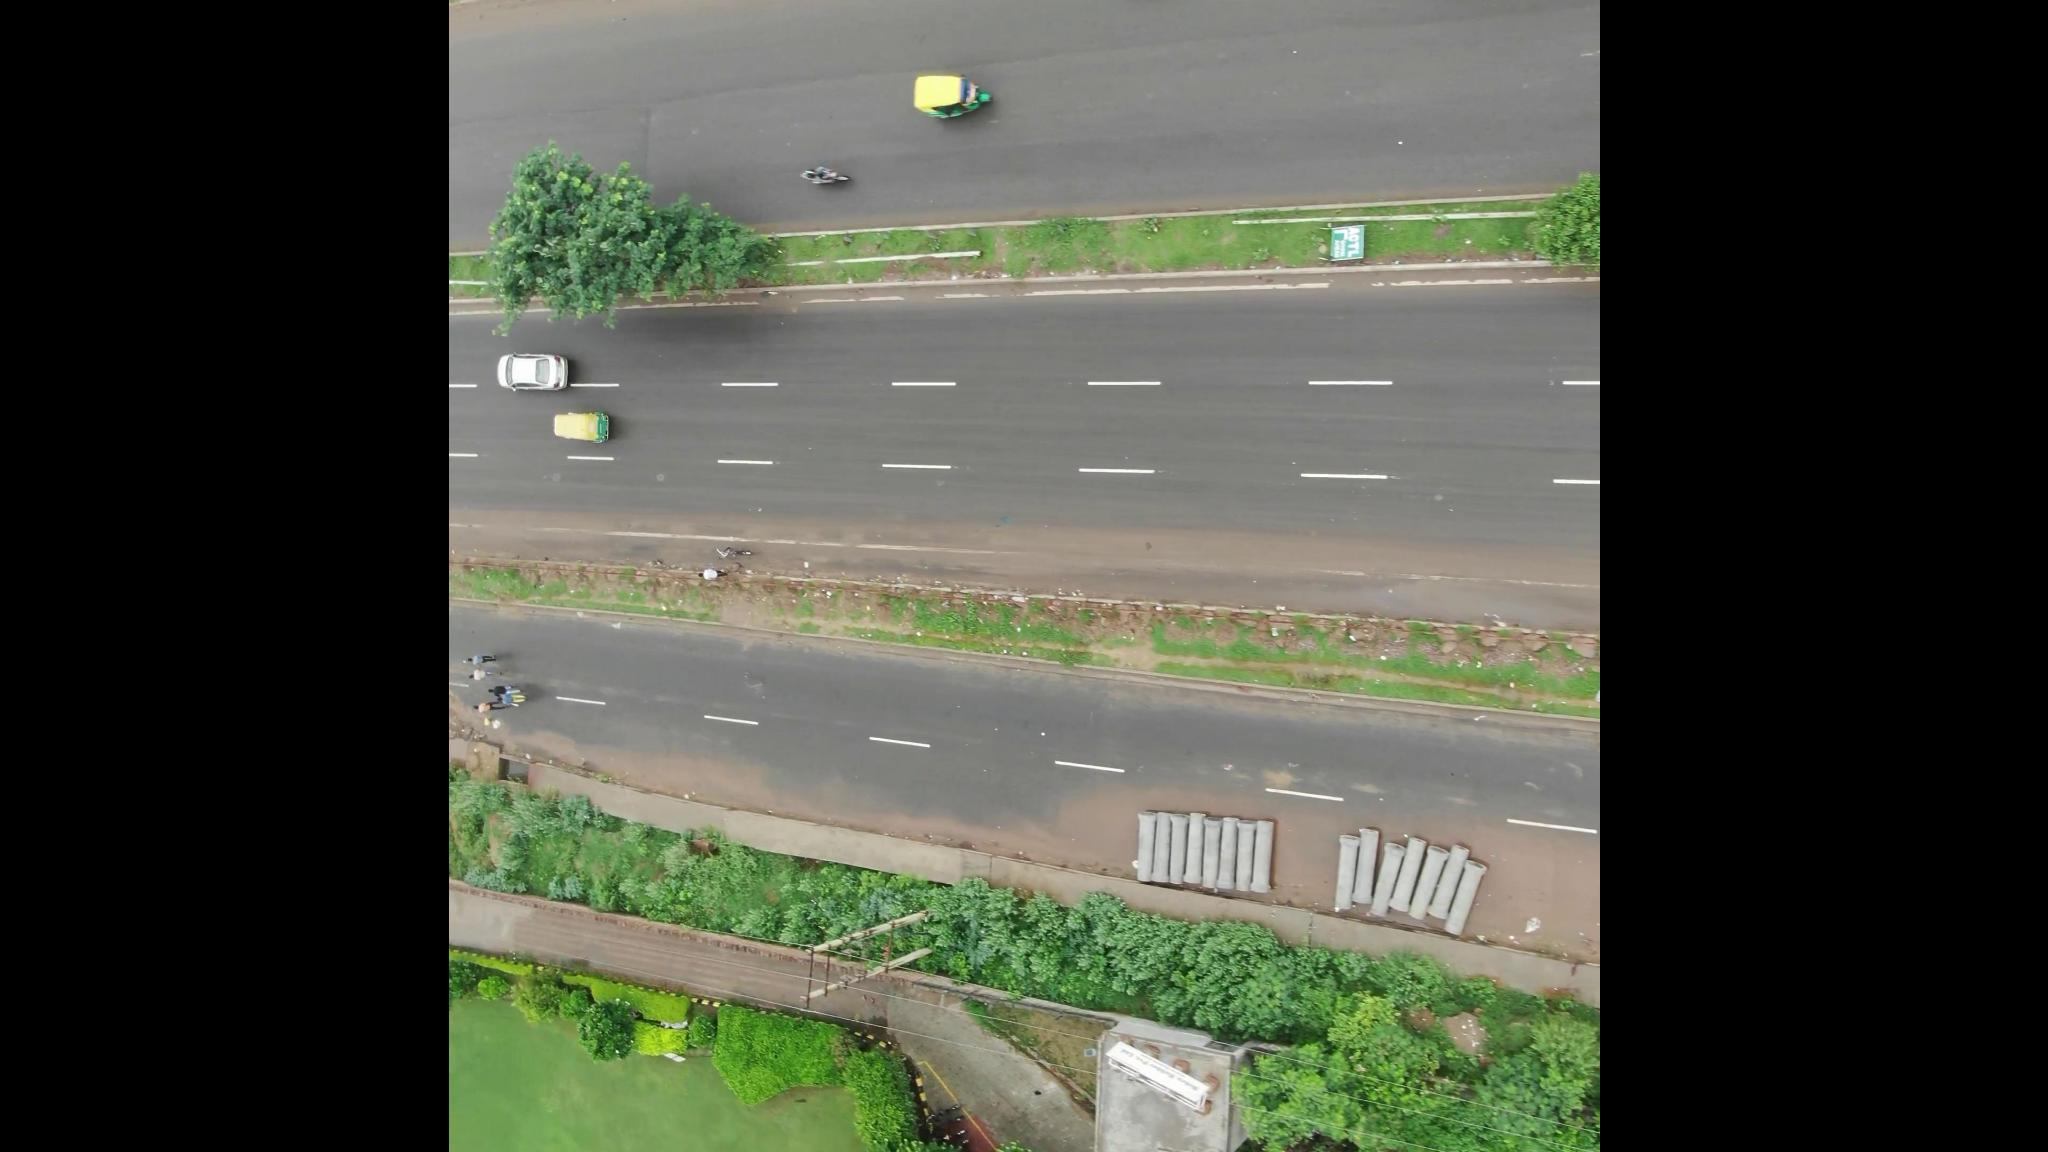Muddy_road: (1476, 821, 1596, 964)
